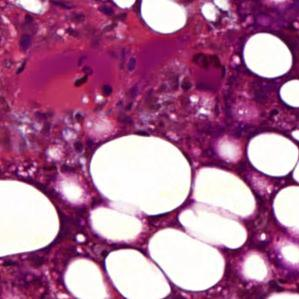steatosis: (87, 132, 200, 215), (241, 129, 299, 176), (242, 30, 294, 81)
